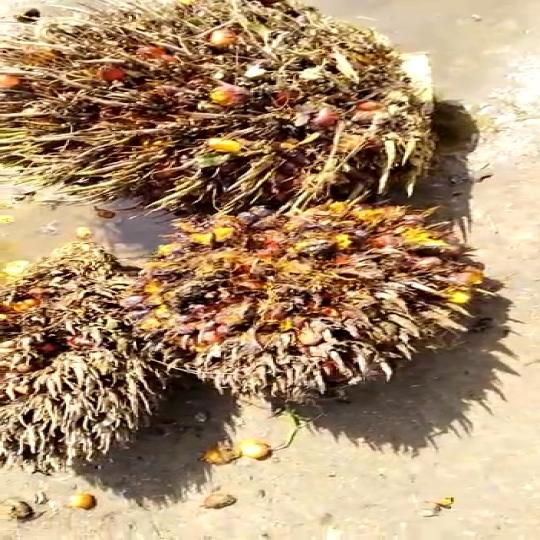terlalu masak: (0, 0, 462, 217), (156, 202, 477, 402)
